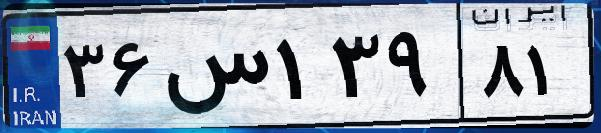1: (270, 28, 330, 110), (525, 38, 570, 115)
3: (330, 28, 385, 110), (57, 26, 110, 100)
6: (110, 28, 158, 98)
8: (475, 38, 525, 113)
9: (385, 28, 445, 110)
س: (158, 20, 270, 120)
